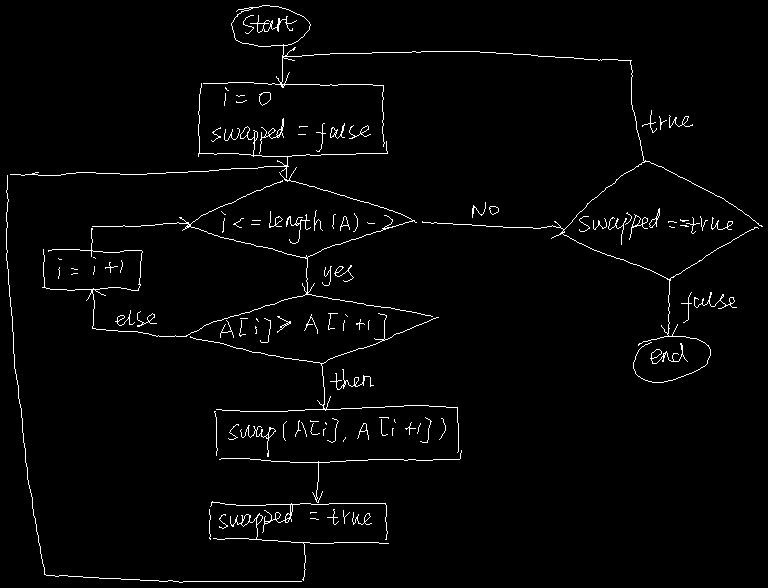arrow: (6, 160, 305, 582), (282, 47, 643, 160), (86, 288, 186, 336), (91, 217, 190, 256), (422, 221, 564, 238), (661, 279, 677, 336), (317, 363, 330, 410), (276, 44, 289, 87), (302, 255, 314, 294), (279, 156, 296, 181), (312, 461, 322, 502)
decision: (560, 160, 762, 280), (185, 179, 416, 258), (183, 292, 438, 363)
process: (214, 405, 461, 462), (198, 82, 387, 156), (209, 501, 388, 543), (42, 249, 142, 290)
terminator: (633, 336, 710, 382), (231, 5, 310, 46)
text: (211, 87, 370, 156), (228, 417, 445, 456), (221, 210, 392, 243), (579, 208, 732, 244), (219, 503, 371, 539), (220, 313, 386, 342), (681, 292, 736, 322), (58, 257, 122, 278), (642, 110, 692, 132), (243, 15, 296, 33), (330, 369, 373, 389), (650, 343, 687, 363), (115, 310, 156, 326), (322, 265, 353, 285), (472, 202, 498, 217)
